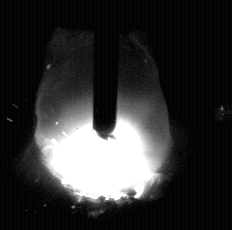arame: (94, 0, 118, 140)
poca: (34, 0, 174, 230)
